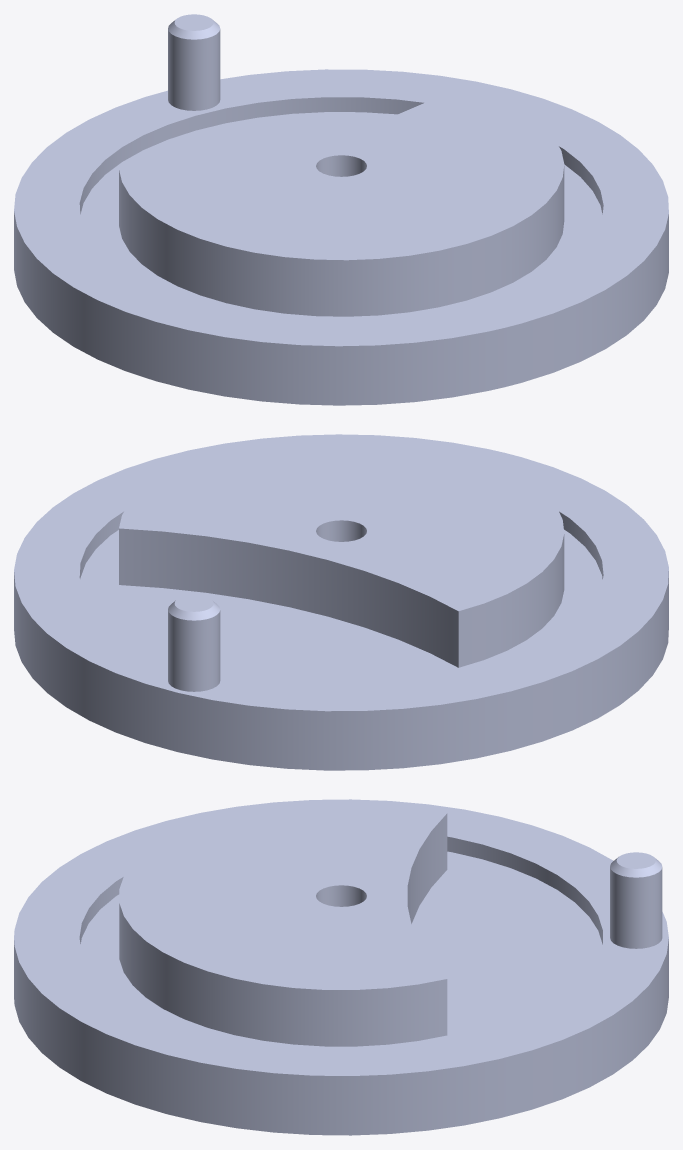
The model's file is Wheel.gltf.
The picture shows the model from 3 angles, top to bottom: view 1: azimuth 30°, elevation 25°; view 2: azimuth 150°, elevation 25°; view 3: azimuth 270°, elevation 25°; orthographic projection.
Parts seen in each view (by area): view 1: Wheel; view 2: Wheel; view 3: Wheel.
Part boxes in pixels (box(x1,y1,x2,y2)): Wheel: box(14, 14, 668, 405); Wheel: box(14, 434, 668, 770); Wheel: box(14, 799, 668, 1135).
Size of the model in its own units: 0.0635 by 0.0179 by 0.0635.
